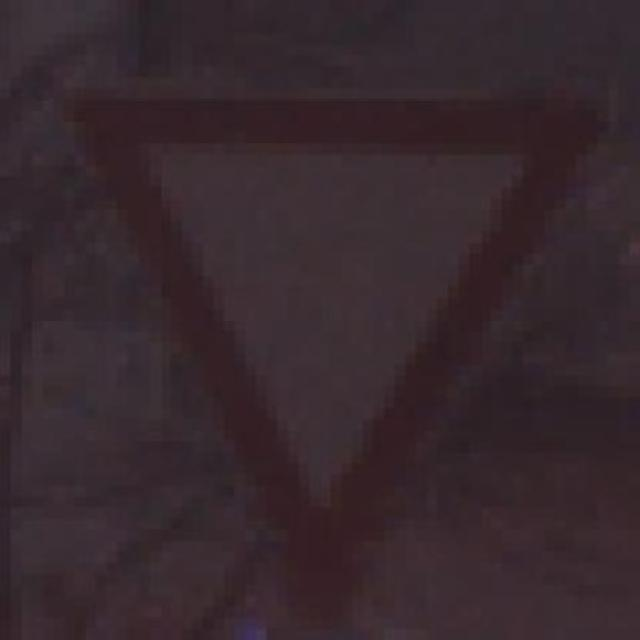Give Way: (75, 66, 630, 596)
